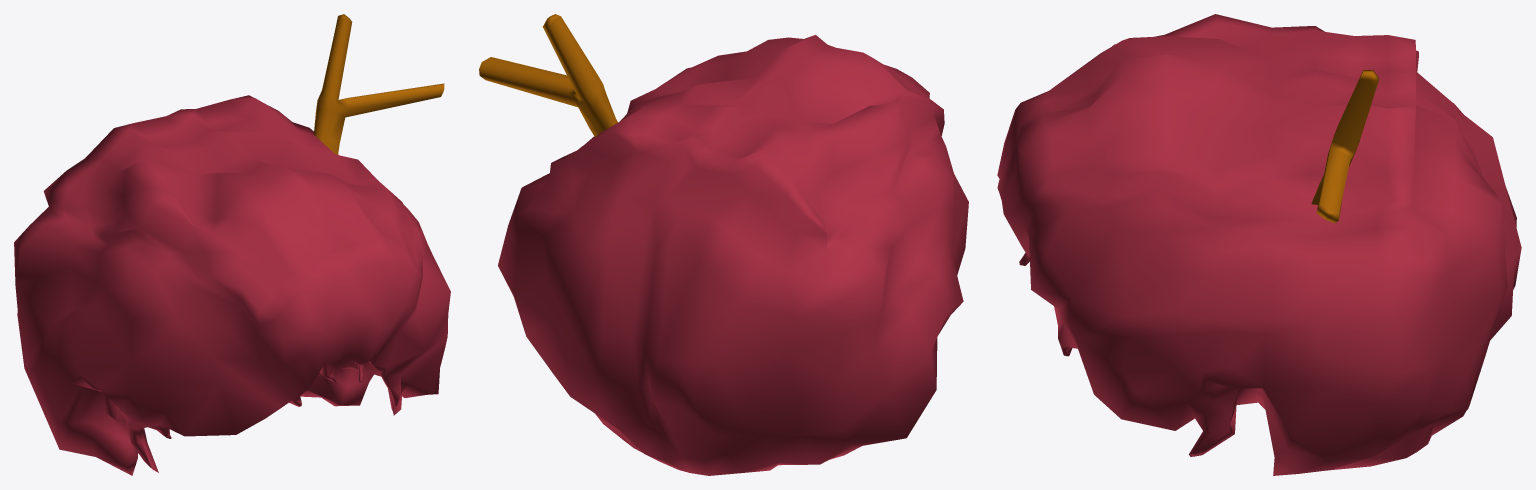
Rendered from ArnionStickFBX.fbx.
3 renders of one model, left to right at view 1: azimuth 30°, elevation 25°; view 2: azimuth 150°, elevation 25°; view 3: azimuth 270°, elevation 25°, orthographic. The views are drawn at different scales.
Parts seen in each view (by area): view 1: Hair1, Stick; view 2: Hair1, Stick; view 3: Hair1, Stick.
Part boxes in pixels (x1,y1,x2,y2): Hair1: (14,95,450,475); Stick: (313,14,444,154); Hair1: (498,35,968,475); Stick: (479,14,617,136); Hair1: (997,14,1521,475); Stick: (1311,70,1379,222).
Size of the model in its own units: 19.59 by 17.03 by 18.12.
